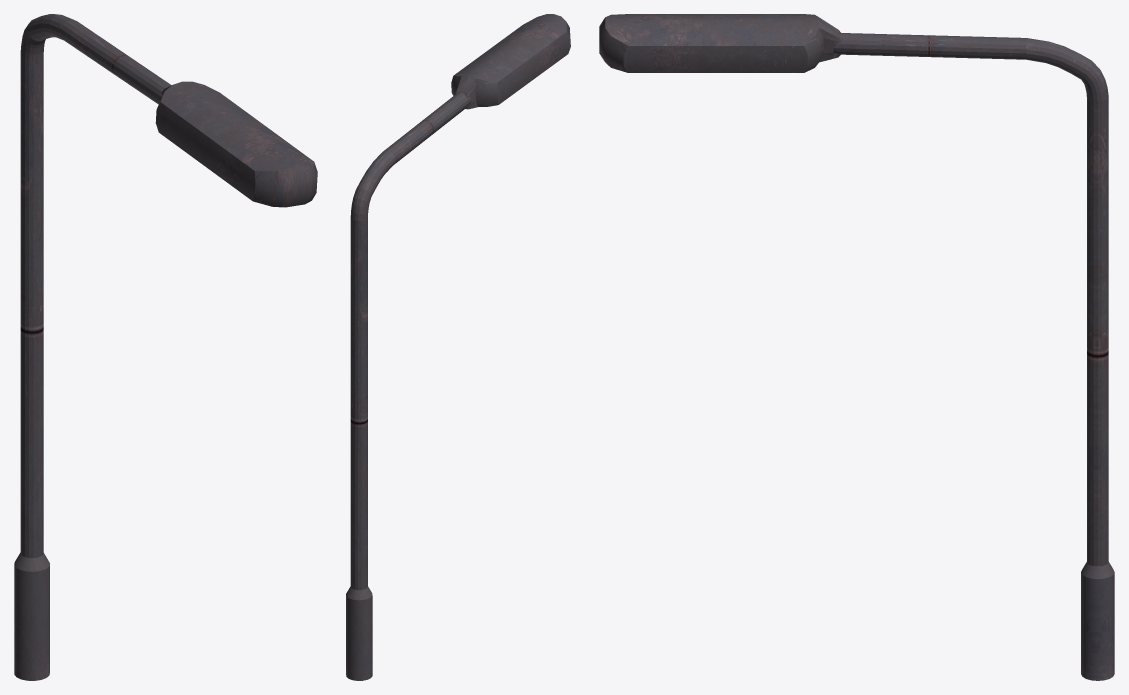
Rendered from roadlight.FBX.
3 views of the same model, side by side, from view 1: azimuth 30°, elevation 25°; view 2: azimuth 150°, elevation 25°; view 3: azimuth 270°, elevation 25° (orthographic). The views are drawn at different scales.
Visible parts, largest first — view 1: Cylinder001; view 2: Cylinder001; view 3: Cylinder001.
Part boxes in pixels (x1,y1,x2,y2): Cylinder001: (14,14,317,680); Cylinder001: (346,14,570,680); Cylinder001: (599,14,1114,680).
Size of the model in its own units: 6.06 by 64.18 by 45.89.
